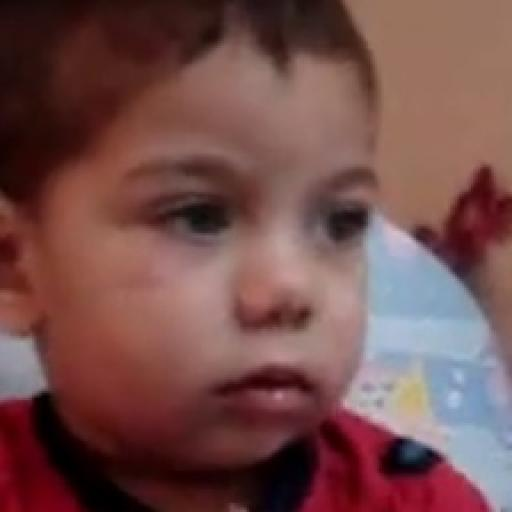Autism: (16, 23, 482, 512)
